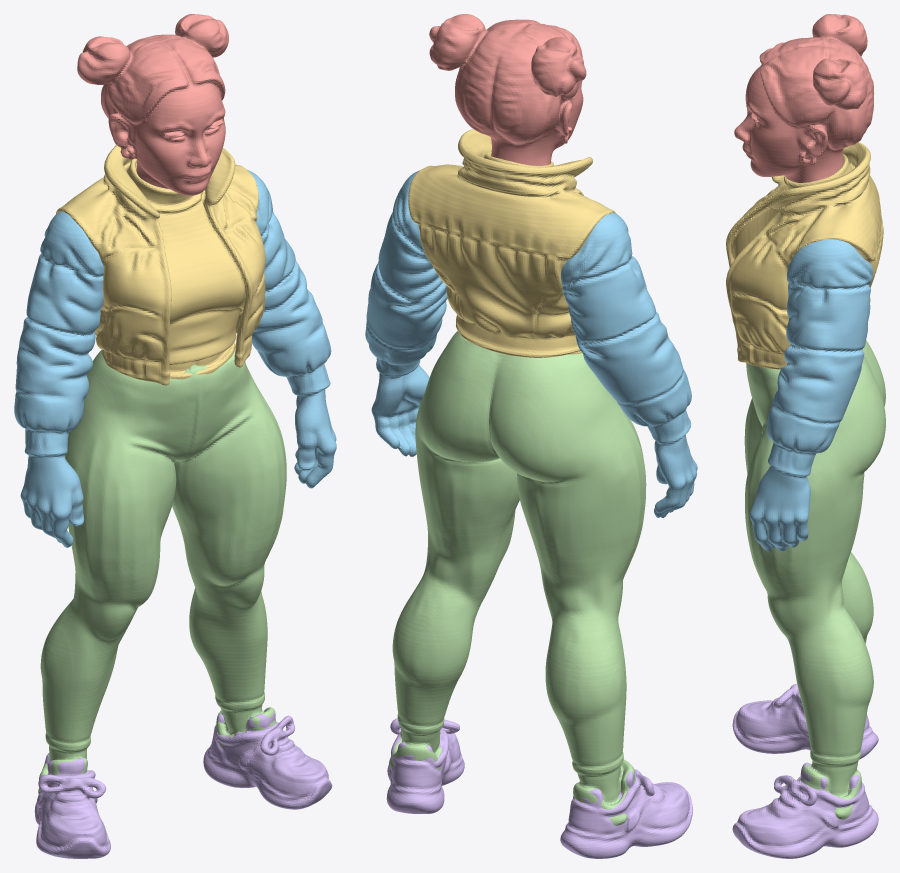
The model's file is combined_parts.glb.
3 renders of one model, left to right at view 1: azimuth 30°, elevation 25°; view 2: azimuth 150°, elevation 25°; view 3: azimuth 270°, elevation 25°, orthographic. The views are drawn at different scales.
Parts seen in each view (by area): view 1: part_004_a662b79e_e5_restored_001, part_003_a662b79e_e3_restored_001, part_002_a662b79e_e2_restored_001, part_001_a662b79e_e1_restored_001, part_005_a662b79e_e6_restored_001; view 2: part_004_a662b79e_e5_restored_001, part_002_a662b79e_e2_restored_001, part_003_a662b79e_e3_restored_001, part_001_a662b79e_e1_restored_001, part_005_a662b79e_e6_restored_001; view 3: part_004_a662b79e_e5_restored_001, part_002_a662b79e_e2_restored_001, part_003_a662b79e_e3_restored_001, part_001_a662b79e_e1_restored_001, part_005_a662b79e_e6_restored_001.
Part boxes in pixels (<box>): part_004_a662b79e_e5_restored_001: <box>38,344,286,794</box>; part_003_a662b79e_e3_restored_001: <box>56,145,265,385</box>; part_002_a662b79e_e2_restored_001: <box>14,170,336,547</box>; part_001_a662b79e_e1_restored_001: <box>77,14,228,195</box>; part_005_a662b79e_e6_restored_001: <box>34,709,332,858</box>; part_004_a662b79e_e5_restored_001: <box>390,331,646,825</box>; part_002_a662b79e_e2_restored_001: <box>365,170,697,517</box>; part_003_a662b79e_e3_restored_001: <box>408,129,615,357</box>; part_001_a662b79e_e1_restored_001: <box>429,14,586,165</box>; part_005_a662b79e_e6_restored_001: <box>386,718,693,858</box>; part_004_a662b79e_e5_restored_001: <box>744,340,885,819</box>; part_002_a662b79e_e2_restored_001: <box>749,239,873,551</box>; part_003_a662b79e_e3_restored_001: <box>726,142,883,369</box>; part_001_a662b79e_e1_restored_001: <box>734,14,874,182</box>; part_005_a662b79e_e6_restored_001: <box>732,684,878,858</box>.
Size of the model in its own units: 0.4704 by 1.13 by 0.2169.
